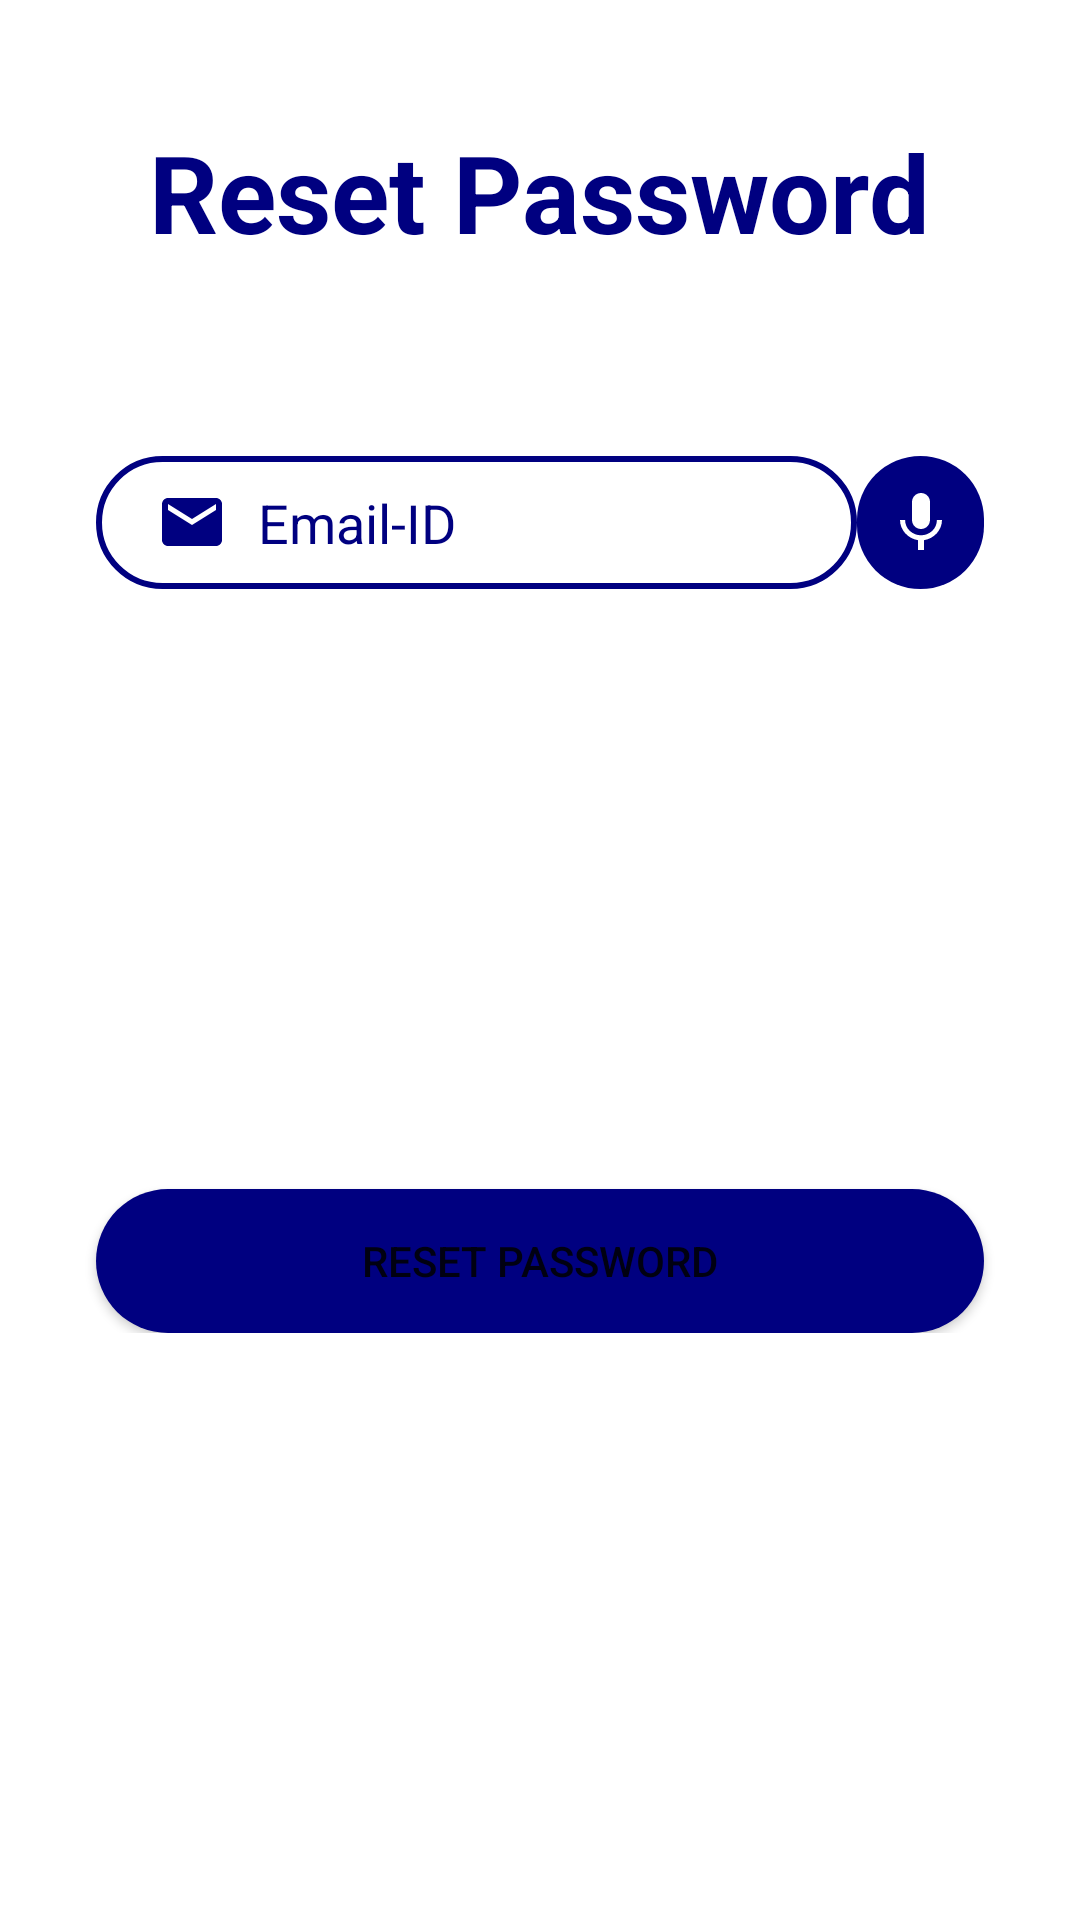

Screen size 1080px x 1920px. Icon name, then its center in pixels as point (x, y):
mic: point (920, 522)
